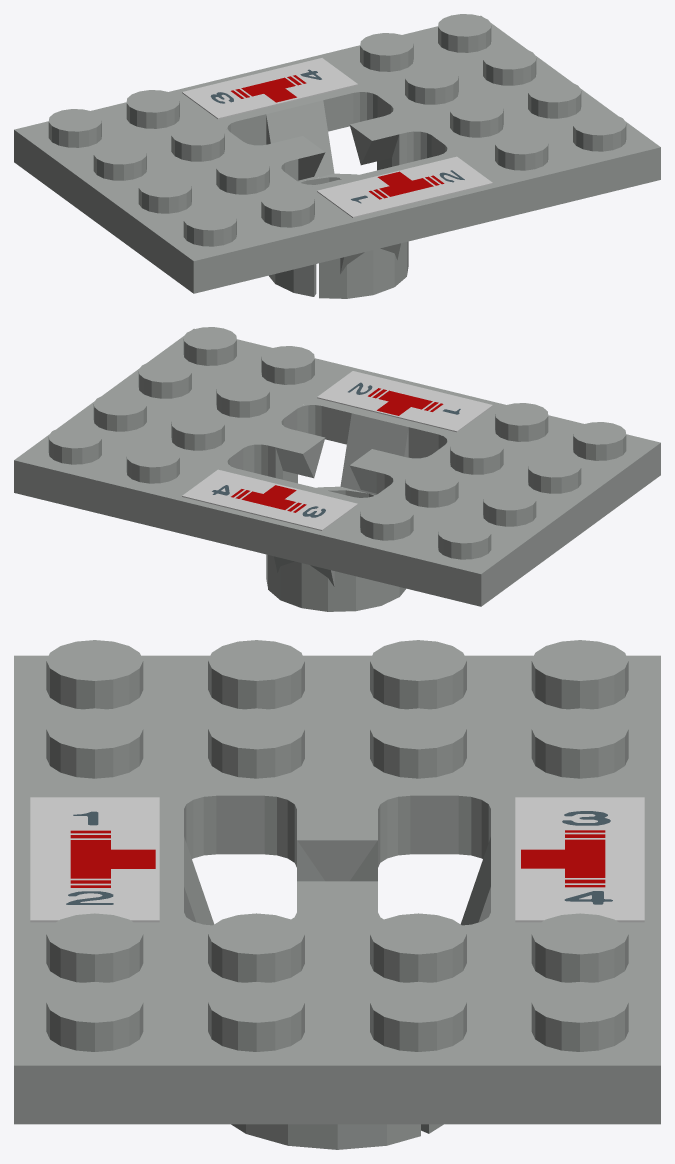
3 renders of one model, top to bottom at view 1: azimuth 30°, elevation 25°; view 2: azimuth 150°, elevation 25°; view 3: azimuth 270°, elevation 25°, orthographic. The views are drawn at different scales.
Visible parts, largest first — view 1: world; view 2: world; view 3: world.
Boxes of the visible parts, left/top/right/bottom form: world: left=14, top=14, right=660, bottom=298; world: left=14, top=327, right=660, bottom=611; world: left=14, top=640, right=660, bottom=1149.
Bounding box in the file's own units: 0.048 × 0.0144 × 0.032.
